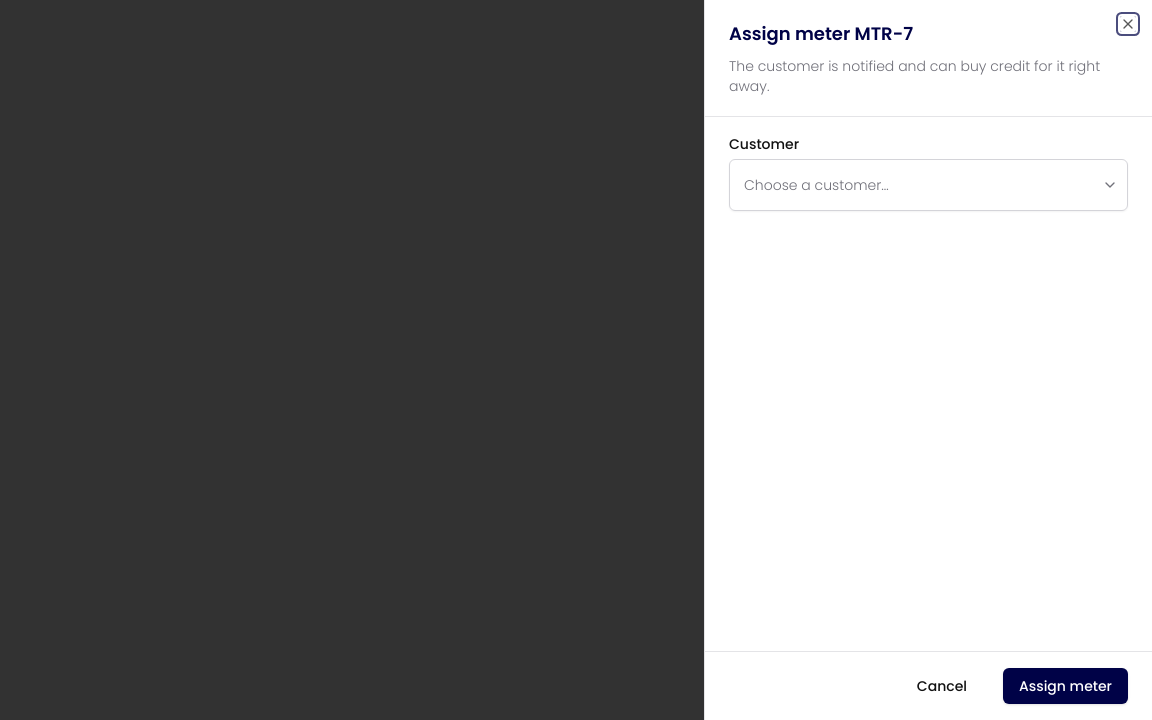
Test case: AssignMeterSheet › refuses to submit without a customer
The image size is (1152, 720).
What coordinates should you click on to do the following:
click the button "Assign meter"
I would click on:
 (1066, 686)
Its box is [1003, 668, 1128, 704].
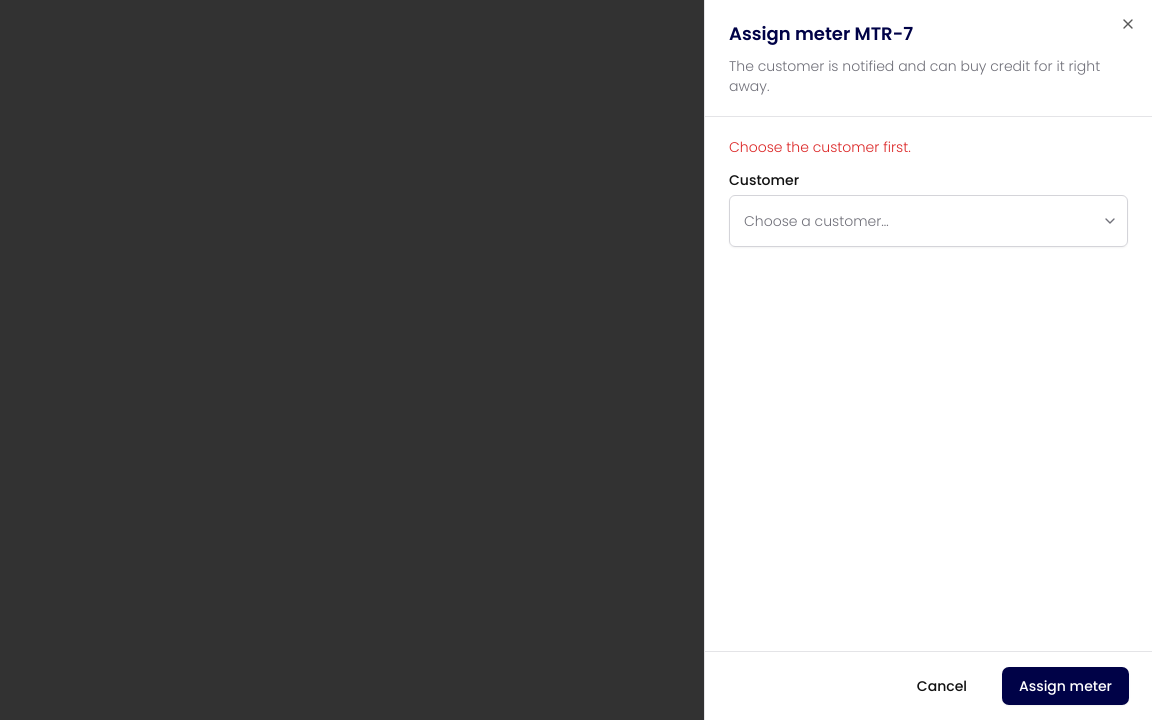
Result: the text "Choose the customer first." is shown at [729, 137, 911, 157]
